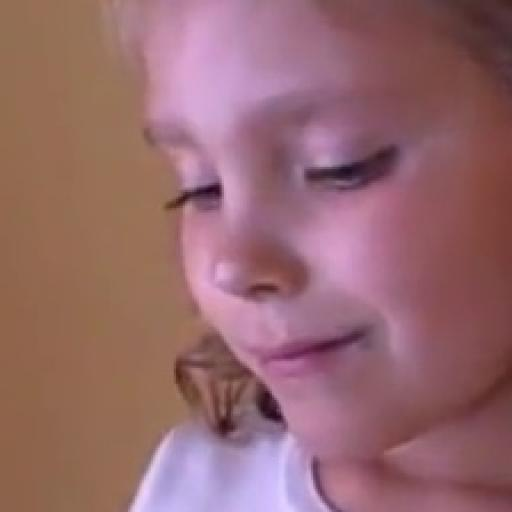Autism: (102, 0, 512, 512)
